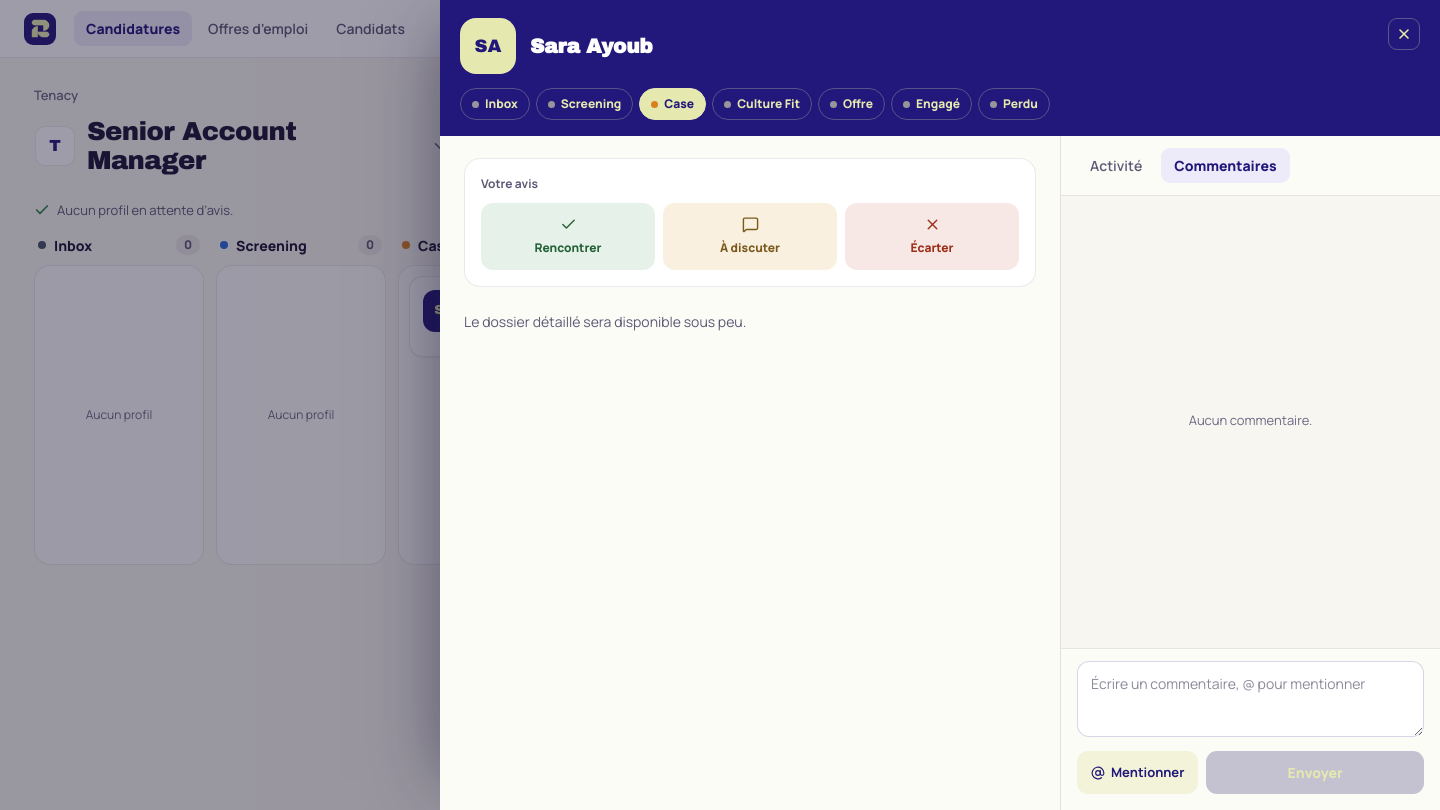
Test case: Portail client : brouillon de commentaire › « Revenir au commentaire » rouvre le champ avec le texte
Type "À revoir ensemble" into the text box labelled "Écrire un commentaire" at [1250, 699], box left=1077, top=661, right=1424, bottom=737
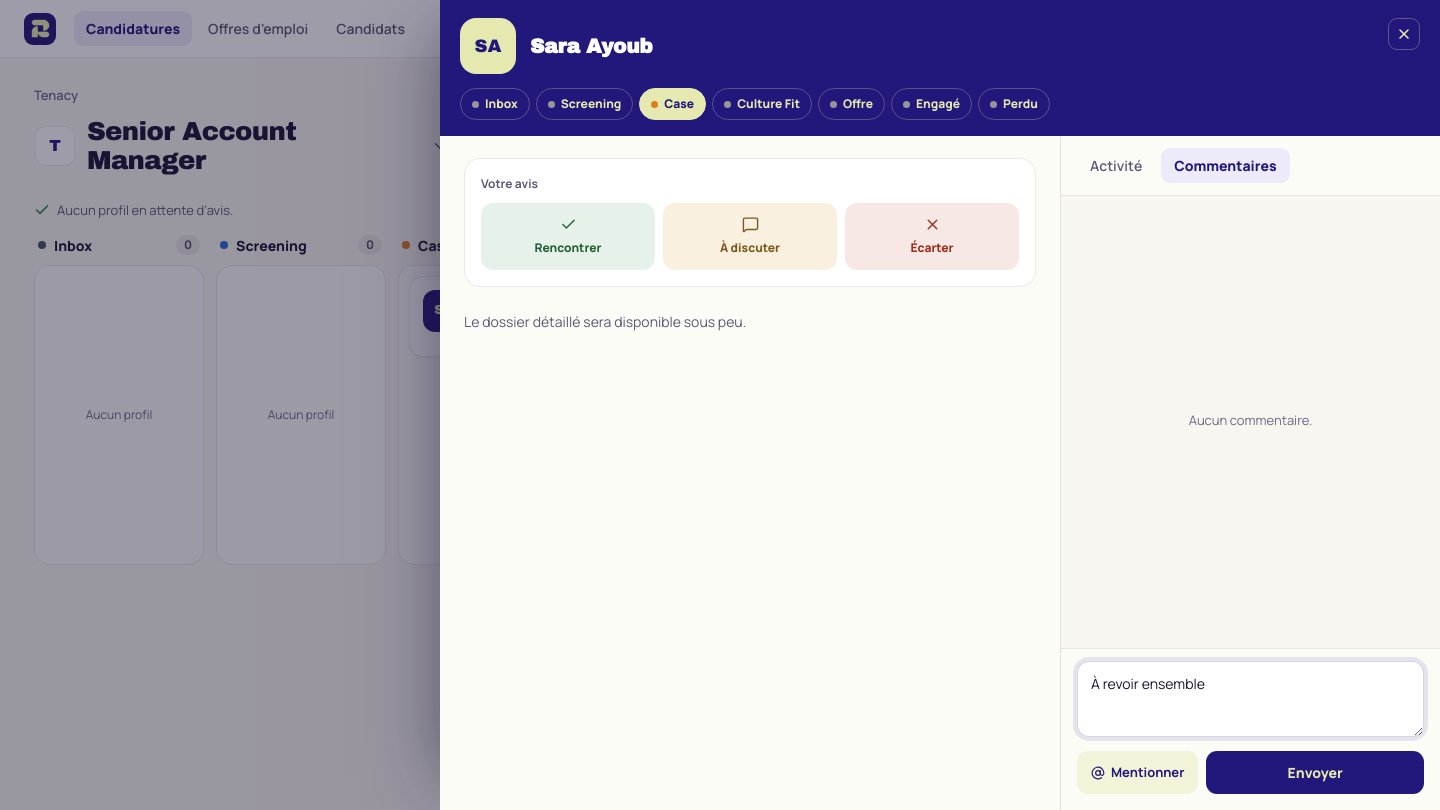
Click the button named "Fermer le dossier" at [1404, 34], box left=1388, top=18, right=1420, bottom=50
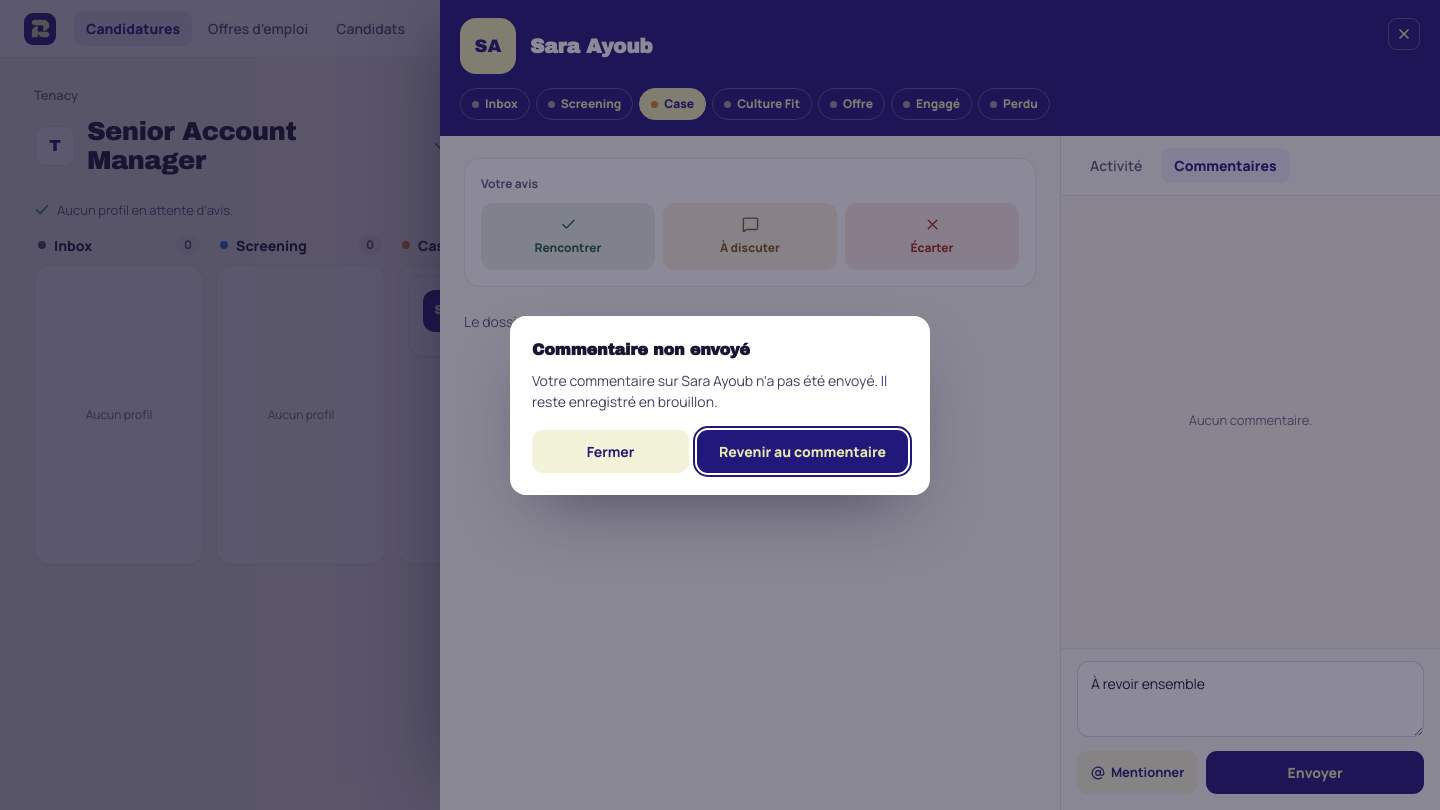
Click the button "Revenir au commentaire" at [802, 451], box left=697, top=430, right=908, bottom=472
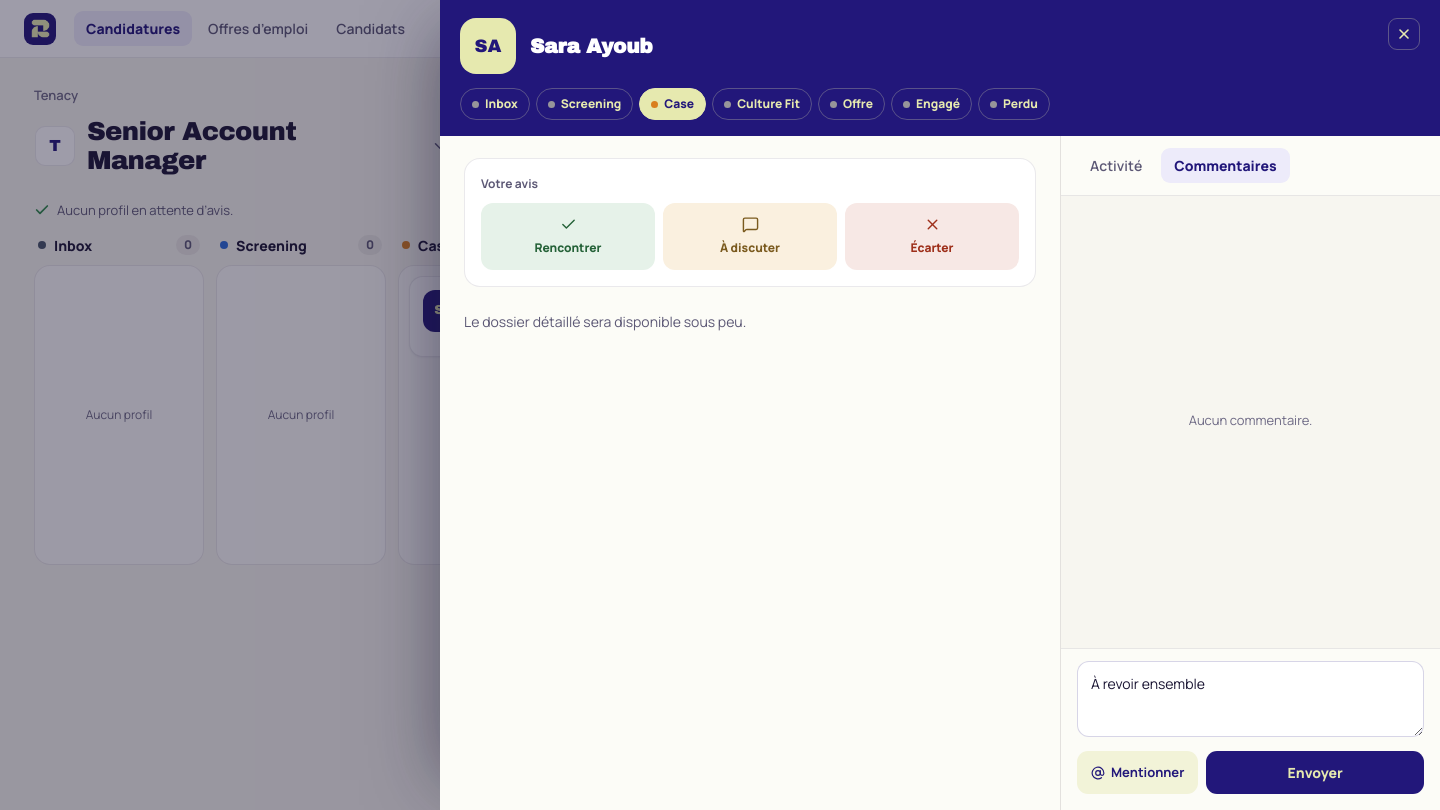
Expected: the heading "Commentaire non envoyé" is gone
